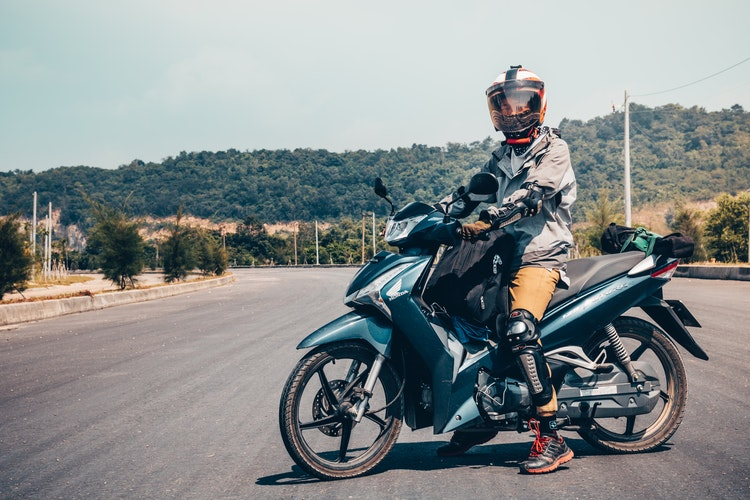helmet: (484, 65, 549, 131)
